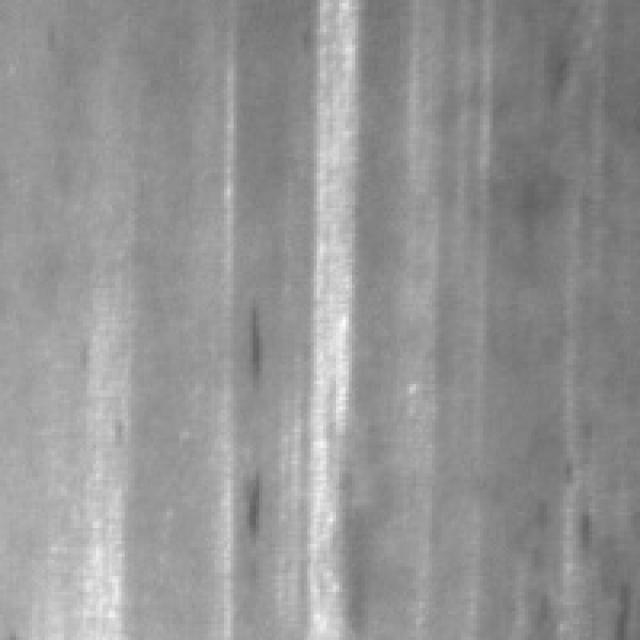inclusion: (224, 301, 269, 384), (227, 458, 266, 547)
scratches: (294, 0, 365, 634), (381, 109, 461, 550), (67, 307, 131, 634)
